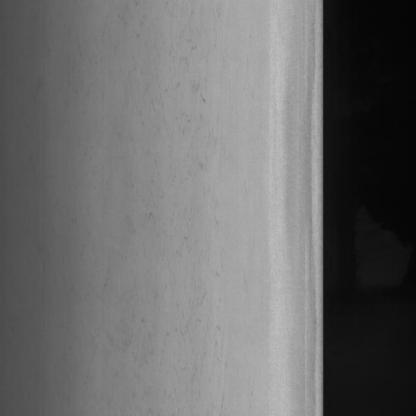silk_spot: (157, 21, 232, 383)
